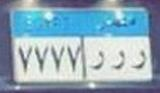7: (33, 43, 50, 74), (49, 44, 65, 76), (16, 43, 32, 74), (67, 44, 81, 75)
raa: (109, 48, 127, 71), (131, 47, 146, 73), (88, 49, 104, 73)
